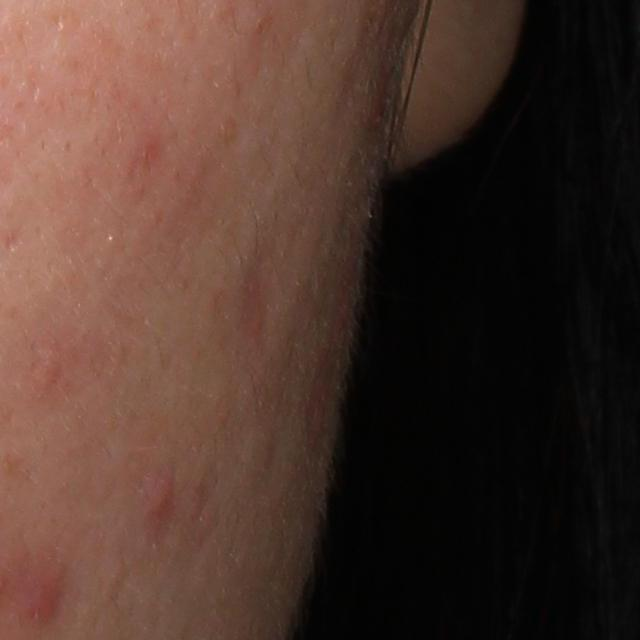papule: (19, 565, 65, 621), (145, 482, 177, 520)
